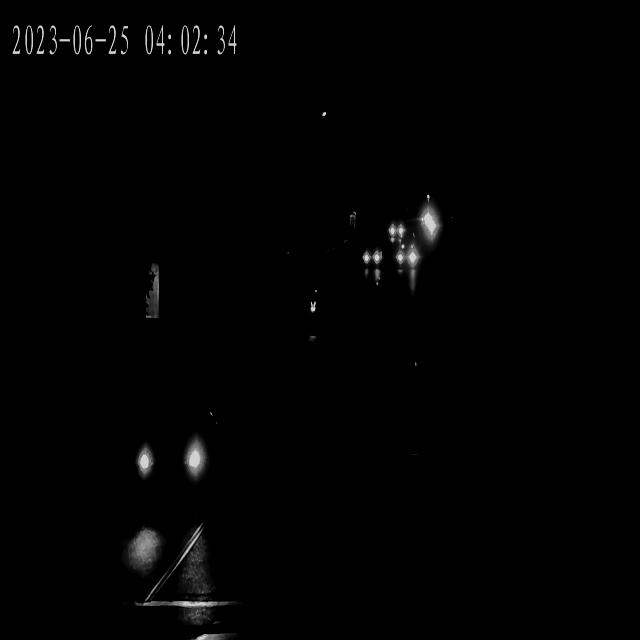Car: (124, 396, 225, 506), (396, 242, 421, 270), (361, 242, 385, 270), (359, 245, 383, 272), (384, 219, 404, 238), (385, 222, 406, 240)
Motorcycle: (297, 296, 325, 348), (297, 290, 323, 340)
